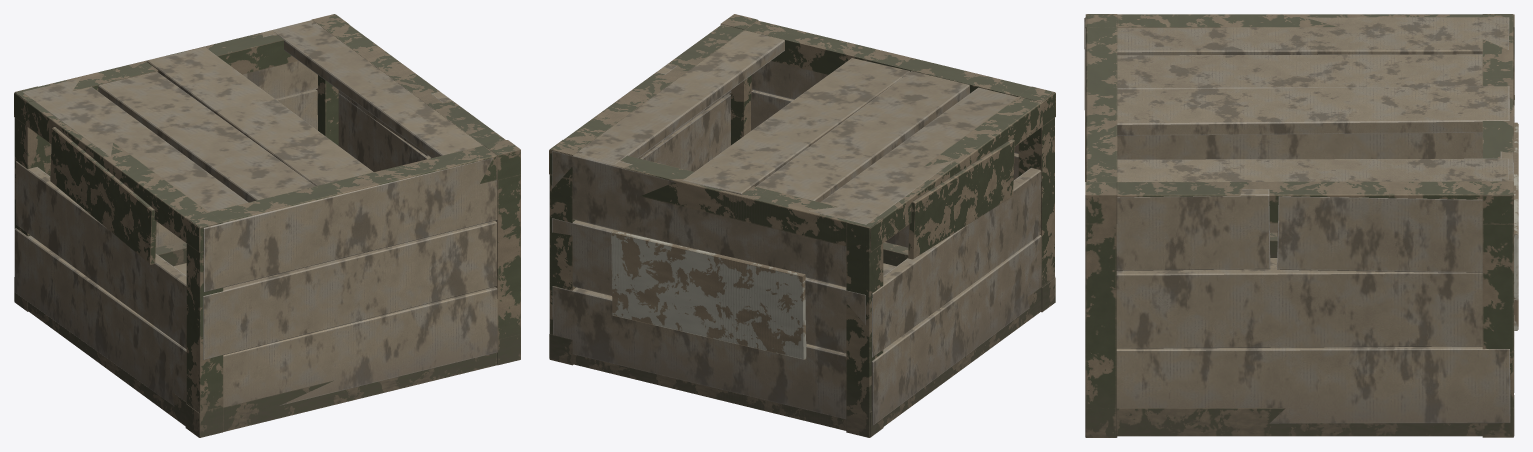
File: crate-06-worn.glb
The picture shows the model from 3 angles, left to right: view 1: azimuth 30°, elevation 25°; view 2: azimuth 150°, elevation 25°; view 3: azimuth 270°, elevation 25°; orthographic projection. The views are drawn at different scales.
Visible parts, largest first — view 1: crate_06_WornCrateSlat06, crate_06_WornCrateFrame06, crate_06_WornCrateLid06; view 2: crate_06_WornCrateSlat06, crate_06_WornCrateFrame06, crate_06_WornCrateLid06; view 3: crate_06_WornCrateSlat06, crate_06_WornCrateLid06, crate_06_WornCrateFrame06.
Part boxes in pixels (<box>): crate_06_WornCrateSlat06: <box>14,20,497,407</box>; crate_06_WornCrateFrame06: <box>14,14,520,437</box>; crate_06_WornCrateLid06: <box>22,22,482,275</box>; crate_06_WornCrateSlat06: <box>552,61,1041,425</box>; crate_06_WornCrateFrame06: <box>549,14,1055,437</box>; crate_06_WornCrateLid06: <box>578,30,1017,275</box>; crate_06_WornCrateSlat06: <box>1084,17,1514,423</box>; crate_06_WornCrateLid06: <box>1117,17,1509,267</box>; crate_06_WornCrateFrame06: <box>1085,14,1518,437</box>.
Bounding box in the file's own units: 0.9732 × 0.6051 × 0.9733.
3 materials, 3 textured.
